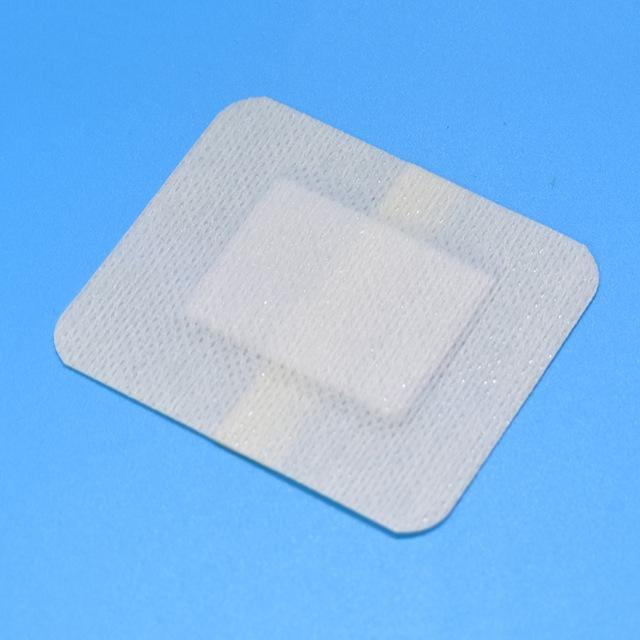bandage: (57, 99, 602, 529)
